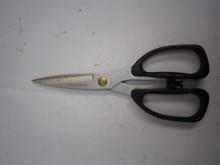scissor: (32, 44, 211, 124)
